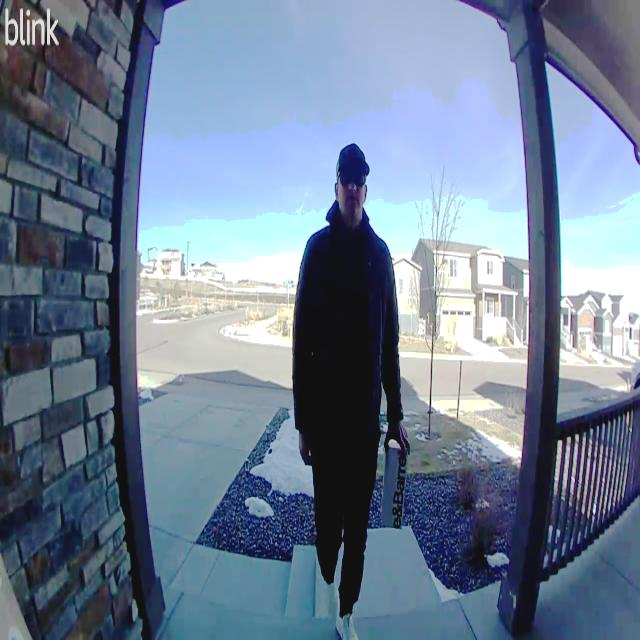Box: (382, 435, 408, 525)
